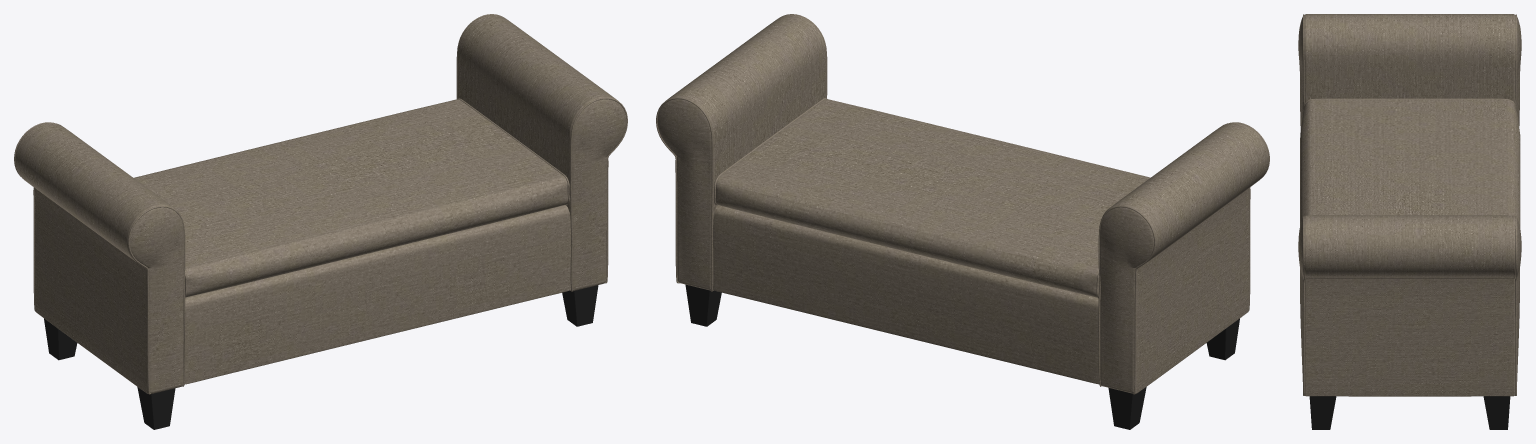
Rendered from abo-B07MJJXHVZ.glb.
3 renders of one model, left to right at view 1: azimuth 30°, elevation 25°; view 2: azimuth 150°, elevation 25°; view 3: azimuth 270°, elevation 25°, orthographic. The views are drawn at different scales.
Bounding box in the file's own units: 1.26 × 0.547 × 0.521.
Materials: 1 (1 with a texture image).
